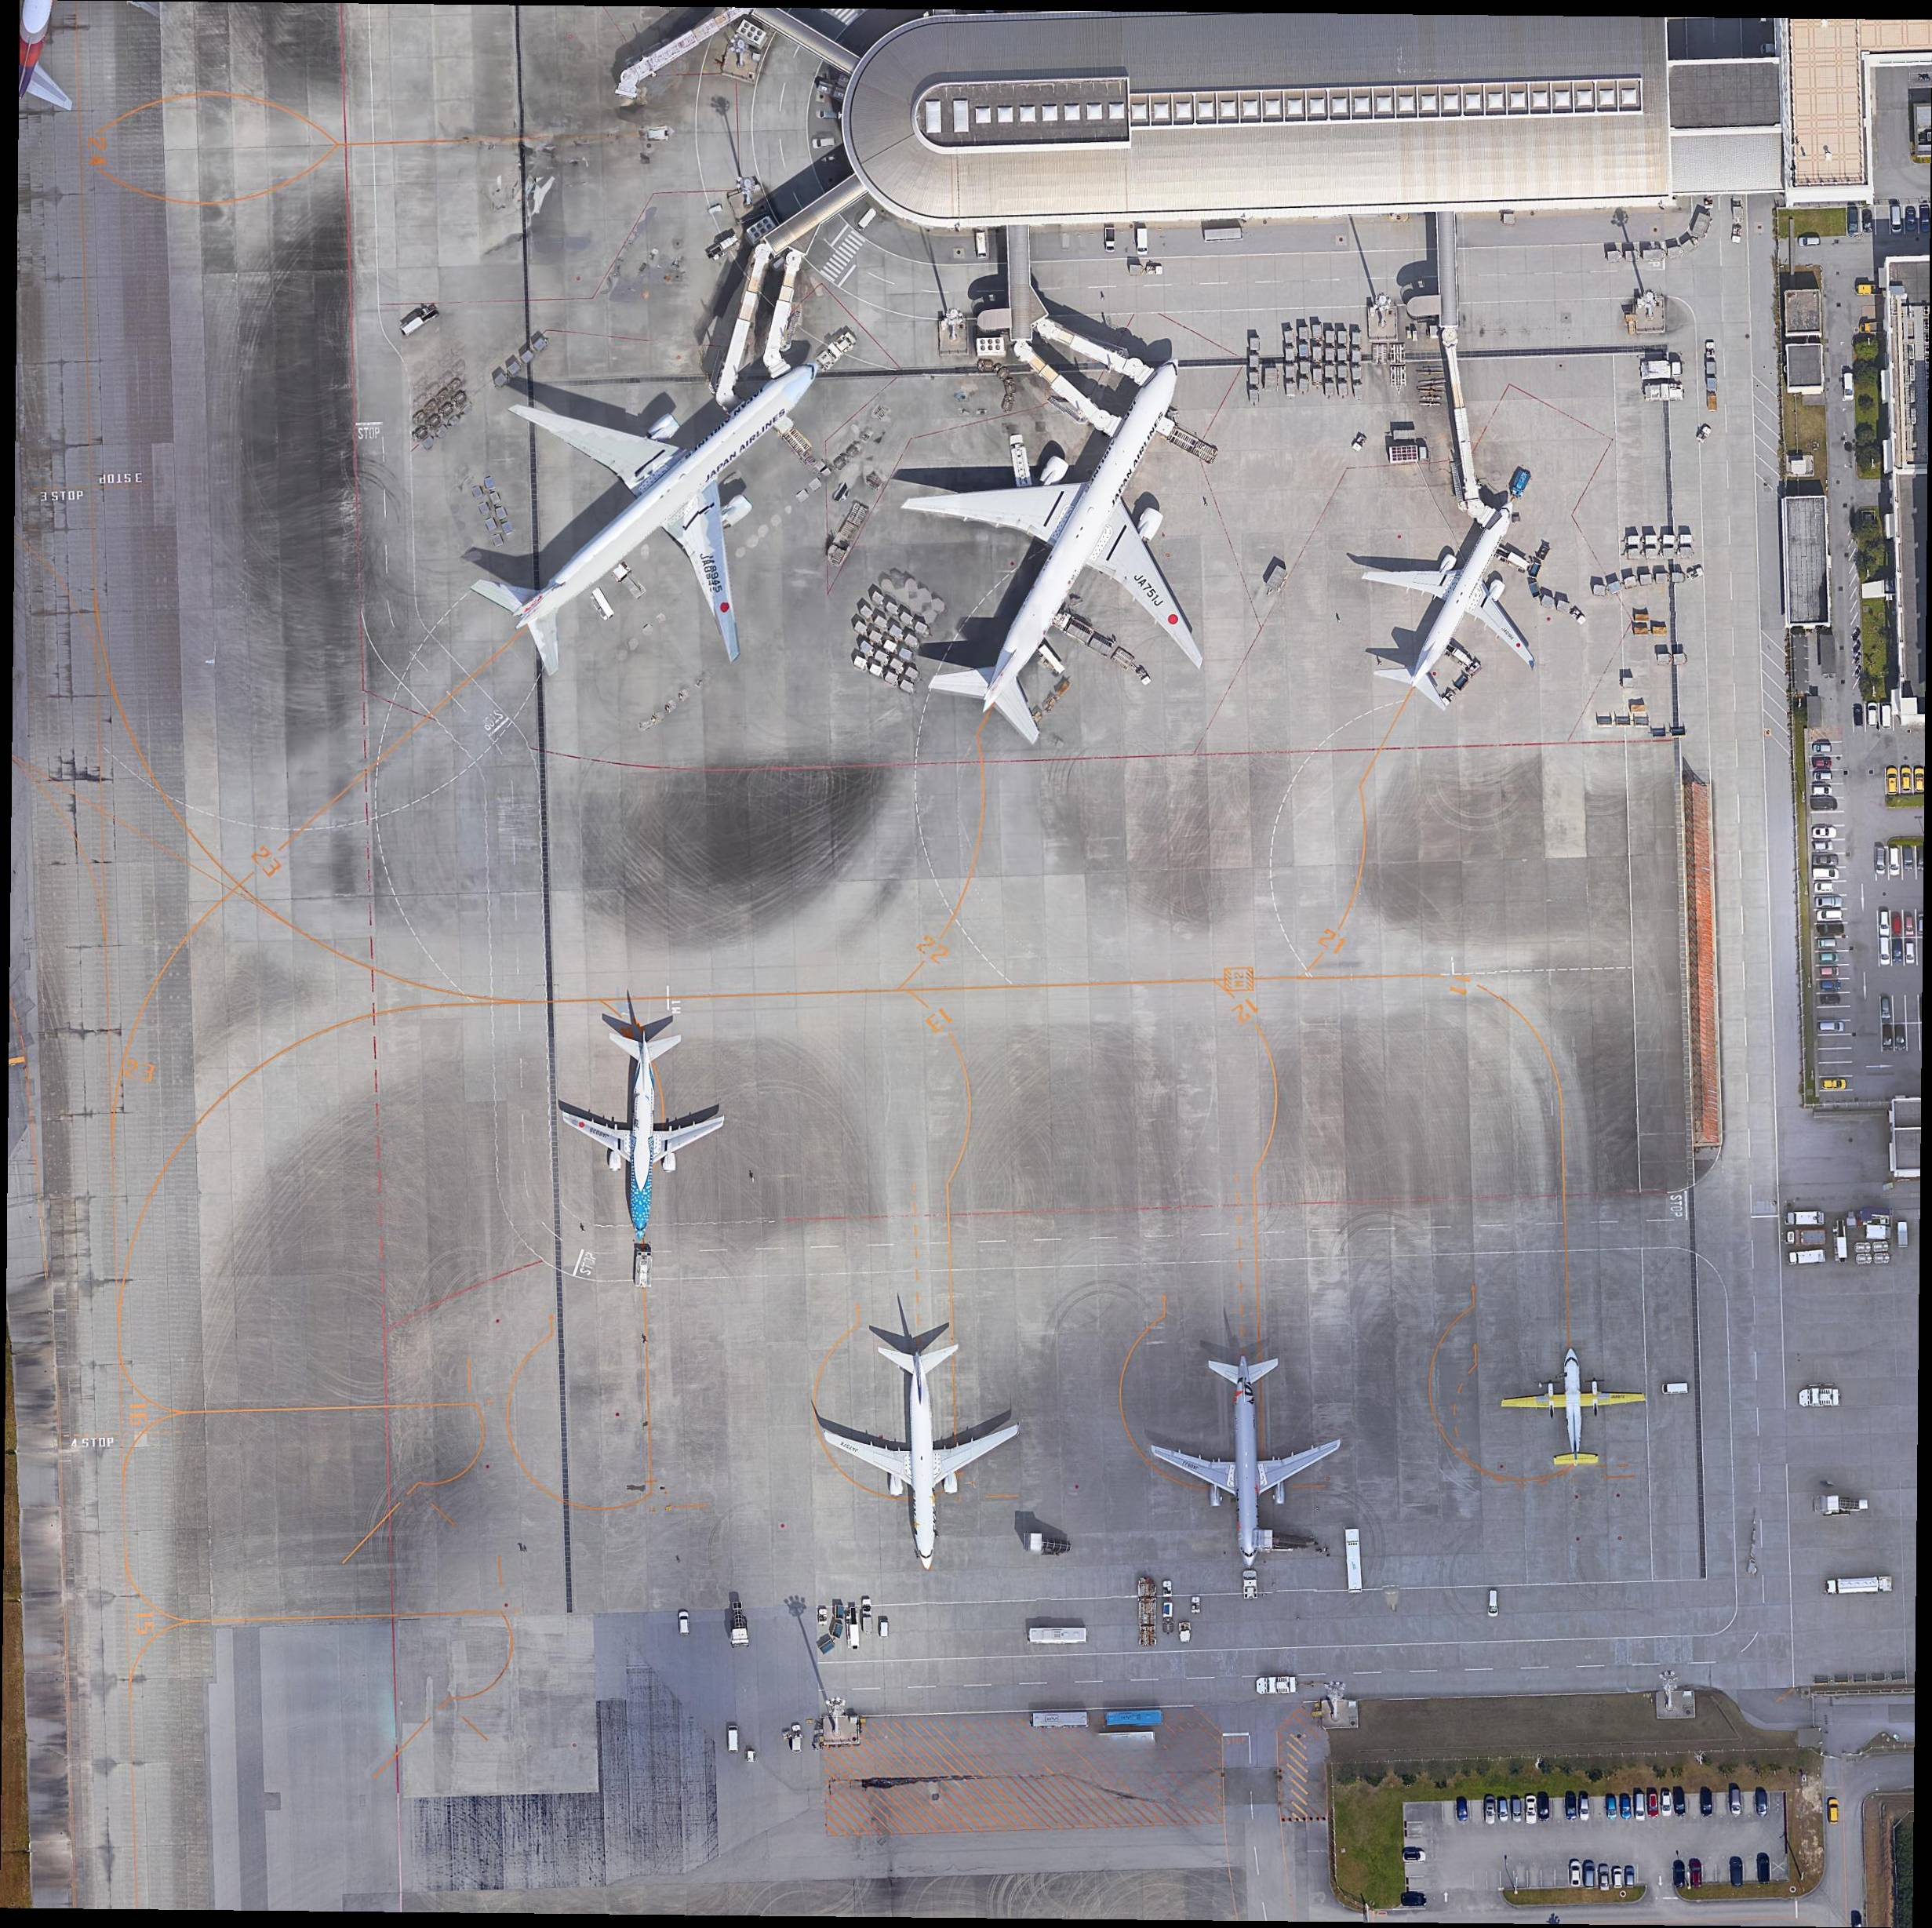plane: (394, 237, 917, 756), (825, 282, 1321, 796), (1328, 470, 1588, 740), (821, 1340, 1030, 1571), (1146, 1349, 1355, 1557), (555, 1028, 733, 1236), (1499, 1347, 1649, 1476)
